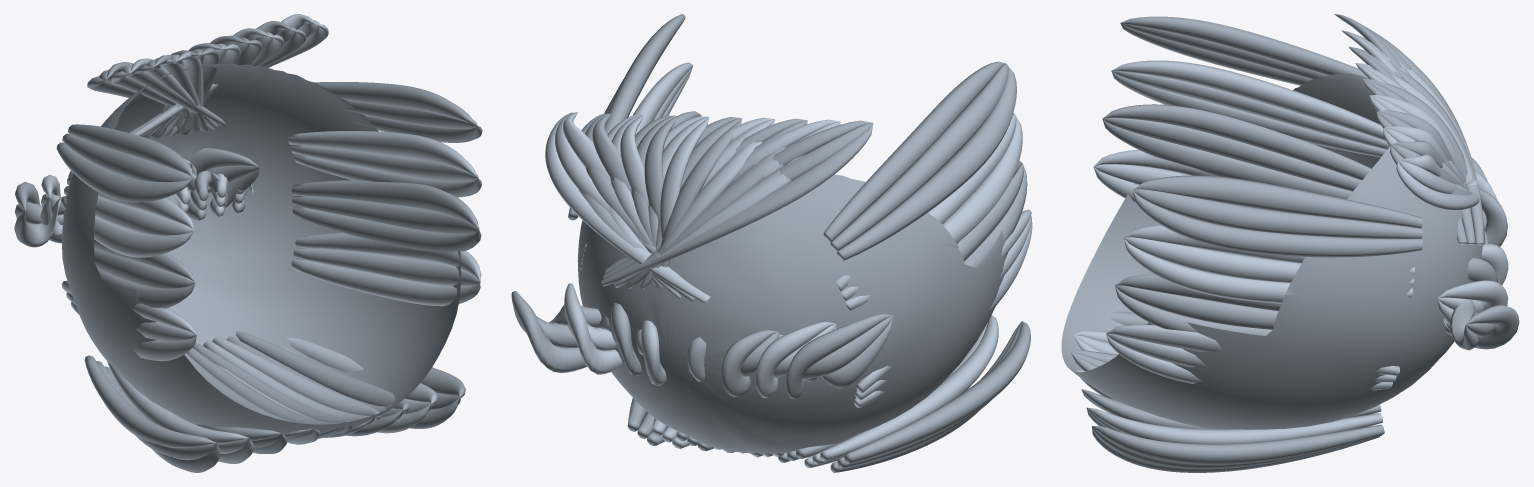
3 views of the same model, side by side, from view 1: azimuth 30°, elevation 25°; view 2: azimuth 150°, elevation 25°; view 3: azimuth 270°, elevation 25° (orthographic). The views are drawn at different scales.
Visible parts, largest first — view 1: CrownHair_ref08, SideHair_1_2_Strand2, SideHair_1_3_Strand0, SideHair_1_1_Strand2, SideHair_1_3_Strand1, SideHair_1_2_Strand0, SideHair_1_2_Strand1, BackHair_06_Strand2, SideHair_1_1_Strand1, SideHair_1_0_Strand2, SideHair_-1_0_Strand2, BackHair_00_Strand0 (+45 smaller); view 2: CrownHair_ref08, SideHair_-1_0_Strand2, SideHair_-1_0_Strand0, SideHair_-1_0_Strand1, BackHair_00_Strand0, FrontHair_Sweep_00_Strand2, BackHair_01_Strand0, FrontHair_Sweep_09_Strand0, SideHair_-1_1_Strand2, SideHair_1_0_Strand2, CrownHair_Spike_00_Strand0, CrownHair_Spike_08_Strand2 (+41 smaller); view 3: CrownHair_ref08, SideHair_1_0_Strand2, SideHair_1_0_Strand0, SideHair_1_0_Strand1, SideHair_-1_1_Strand0, BackHair_08_Strand2, SideHair_-1_2_Strand0, SideHair_-1_2_Strand1, SideHair_-1_0_Strand0, BackHair_07_Strand2, SideHair_-1_2_Strand2, SideHair_-1_1_Strand1 (+37 smaller).
Boxes of the visible parts, x1=… form: CrownHair_ref08: x1=62, y1=63, x2=461, y2=438; SideHair_1_2_Strand2: x1=291, y1=180, x2=478, y2=229; SideHair_1_3_Strand0: x1=291, y1=258, x2=480, y2=306; SideHair_1_1_Strand2: x1=287, y1=131, x2=477, y2=176; SideHair_1_3_Strand1: x1=293, y1=247, x2=480, y2=286; SideHair_1_2_Strand0: x1=292, y1=206, x2=481, y2=251; SideHair_1_2_Strand1: x1=292, y1=195, x2=479, y2=234; BackHair_06_Strand2: x1=236, y1=331, x2=409, y2=413; SideHair_1_1_Strand1: x1=290, y1=144, x2=478, y2=181; SideHair_1_0_Strand2: x1=314, y1=82, x2=475, y2=124; SideHair_-1_0_Strand2: x1=56, y1=142, x2=192, y2=202; BackHair_00_Strand0: x1=84, y1=355, x2=216, y2=448; CrownHair_ref08: x1=577, y1=174, x2=1008, y2=453; SideHair_-1_0_Strand2: x1=837, y1=64, x2=1016, y2=260; SideHair_-1_0_Strand0: x1=823, y1=61, x2=1005, y2=242; SideHair_-1_0_Strand1: x1=830, y1=63, x2=1008, y2=251; BackHair_00_Strand0: x1=844, y1=321, x2=1030, y2=463; FrontHair_Sweep_00_Strand2: x1=601, y1=123, x2=873, y2=286; BackHair_01_Strand0: x1=820, y1=315, x2=998, y2=461; FrontHair_Sweep_09_Strand0: x1=545, y1=112, x2=710, y2=303; SideHair_-1_1_Strand2: x1=845, y1=114, x2=1022, y2=311; SideHair_1_0_Strand2: x1=605, y1=14, x2=685, y2=134; CrownHair_Spike_00_Strand0: x1=785, y1=314, x2=892, y2=399; CrownHair_Spike_08_Strand2: x1=511, y1=291, x2=586, y2=372; CrownHair_ref08: x1=1061, y1=73, x2=1485, y2=429; SideHair_1_0_Strand2: x1=1133, y1=175, x2=1422, y2=227; SideHair_1_0_Strand0: x1=1132, y1=190, x2=1422, y2=257; SideHair_1_0_Strand1: x1=1133, y1=189, x2=1422, y2=238; SideHair_-1_1_Strand0: x1=1112, y1=60, x2=1385, y2=140; BackHair_08_Strand2: x1=1092, y1=424, x2=1384, y2=464; SideHair_-1_2_Strand0: x1=1103, y1=104, x2=1371, y2=180; SideHair_-1_2_Strand1: x1=1103, y1=118, x2=1361, y2=191; SideHair_-1_0_Strand0: x1=1121, y1=16, x2=1368, y2=78; BackHair_07_Strand2: x1=1087, y1=407, x2=1382, y2=444; SideHair_-1_2_Strand2: x1=1102, y1=119, x2=1352, y2=199; SideHair_-1_1_Strand1: x1=1112, y1=71, x2=1389, y2=149.
Bounding box in the file's own units: 0.6207 × 0.6043 × 0.7052.
